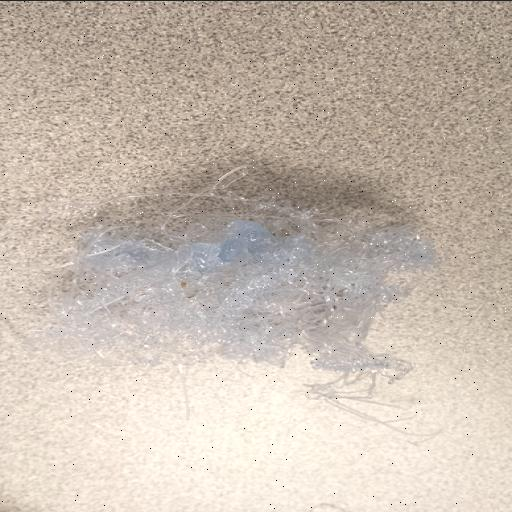spaghetti: (52, 222, 400, 428)
